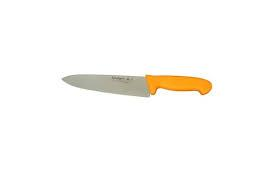Knife: (61, 73, 212, 97)
